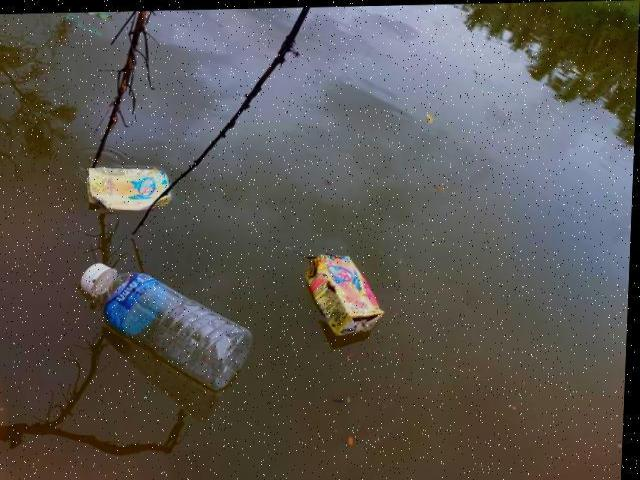Bottle: (71, 261, 261, 396)
Box: (299, 248, 388, 345), (78, 163, 180, 218)
